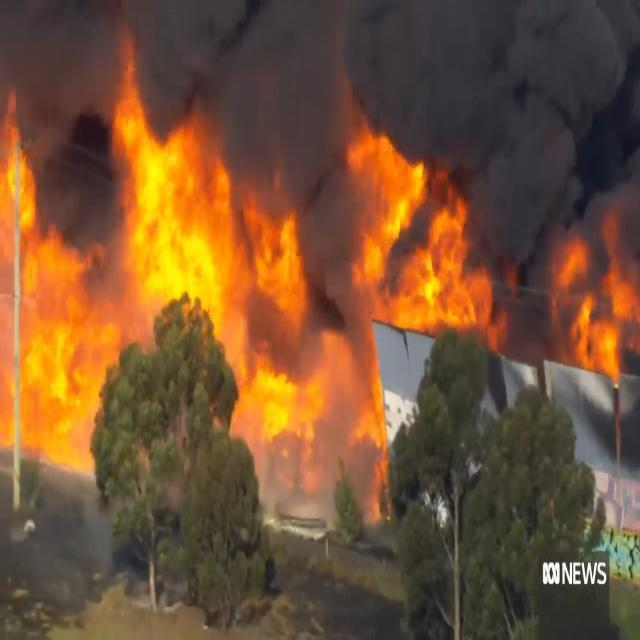fire: (0, 80, 116, 471), (246, 189, 367, 494), (348, 109, 495, 334), (125, 68, 229, 324), (546, 228, 640, 367)
